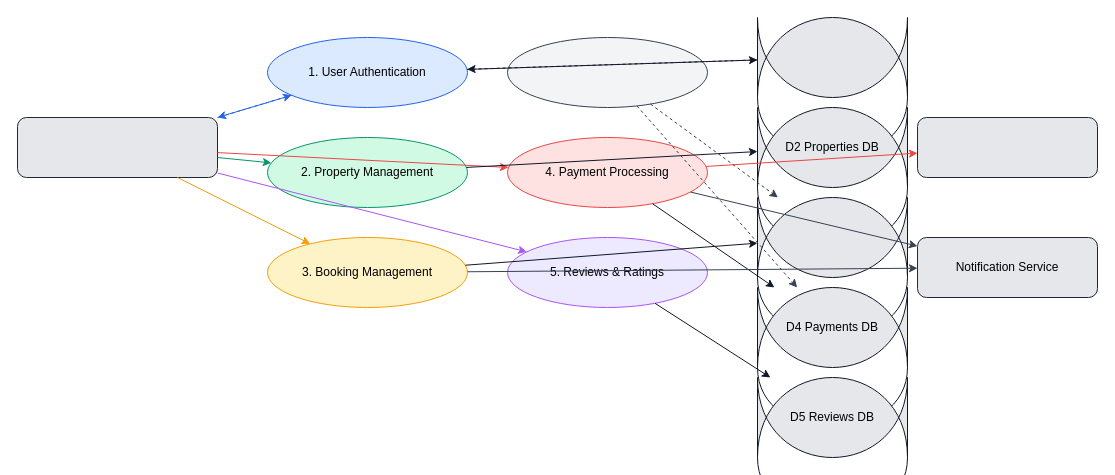
Some shapes in this 1115 by 475 pixel diagram are drawn without their labels. The box of each missing label's shape, as (x1, y1, x2, y2) in pixels:
6. Admin Monitoring: (506, 36, 708, 108)
D1 Users DB: (756, 16, 908, 98)
D3 Bookings DB: (756, 196, 908, 278)
Payment Gateway: (916, 116, 1098, 178)
User (Guest/Host/Admin): (16, 116, 218, 178)
